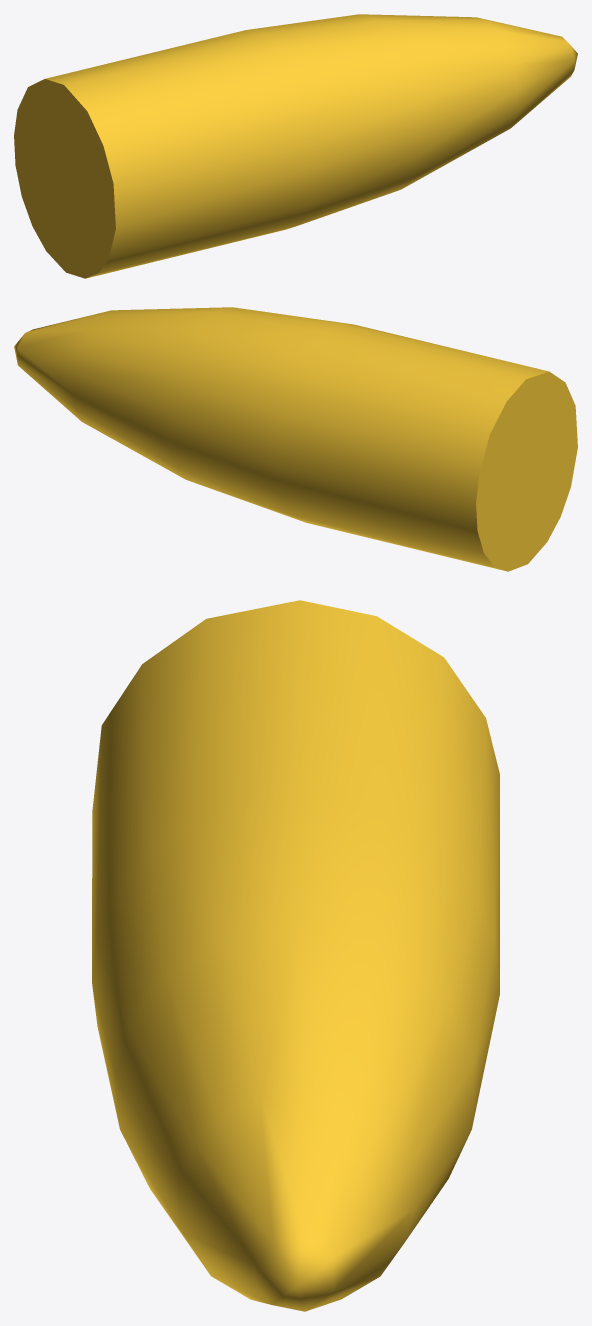
File: bala_ignitium.obj
3 renders of one model, top to bottom at view 1: azimuth 30°, elevation 25°; view 2: azimuth 150°, elevation 25°; view 3: azimuth 270°, elevation 25°, orthographic. The views are drawn at different scales.
Bounding box in the file's own units: 0.092 × 0.0319 × 0.0317.
